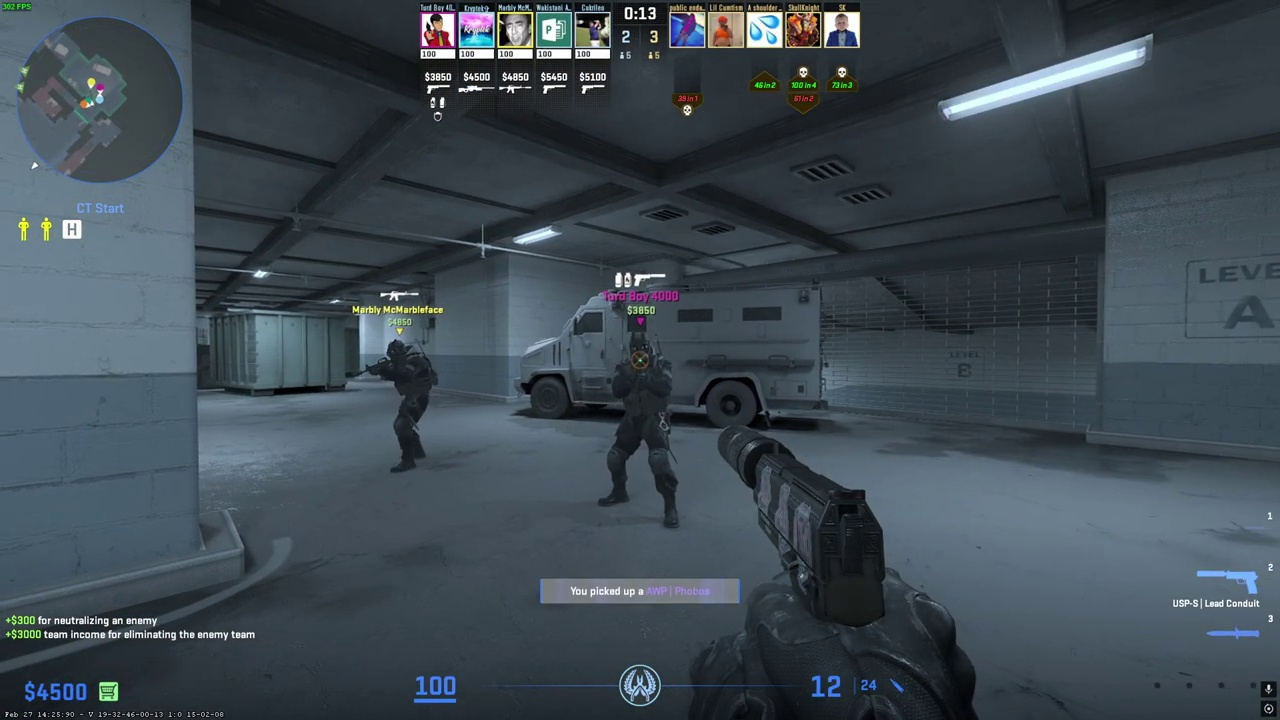CT: (603, 332, 679, 526), (379, 339, 431, 471)
